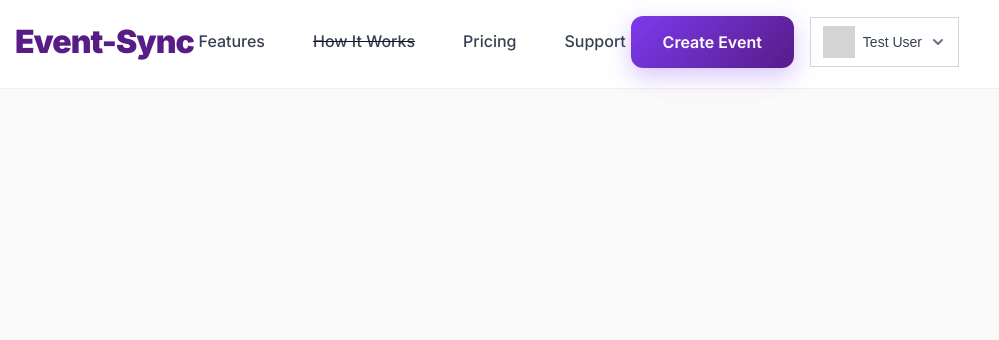
Test case: Header Component › Profile Dropdown › should show correct user information in dropdown header
Click the button with aria-label "User profile menu" at (884, 42), box 810,17 -> 959,67
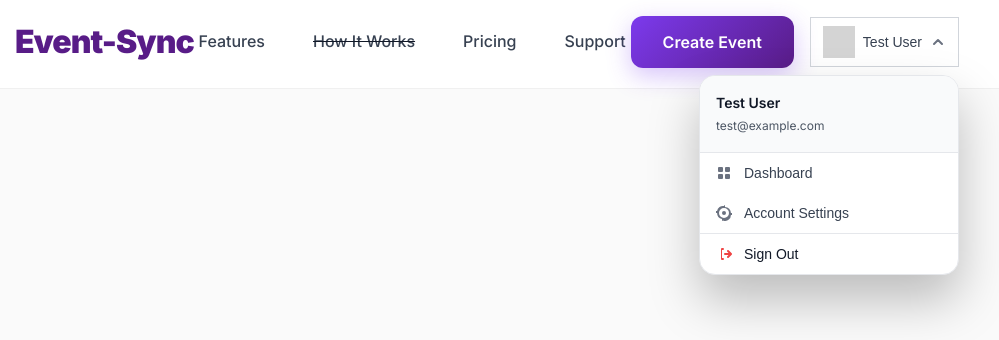
Expected: the 1st text "Test User" is shown, 863,34 -> 922,50
Expected: the text "test@example.com" is shown, 716,118 -> 824,133
